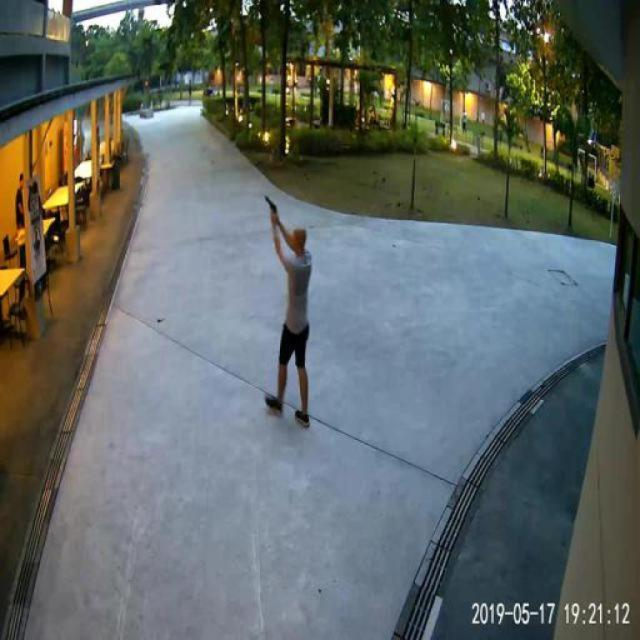pistol: (263, 194, 277, 218)
